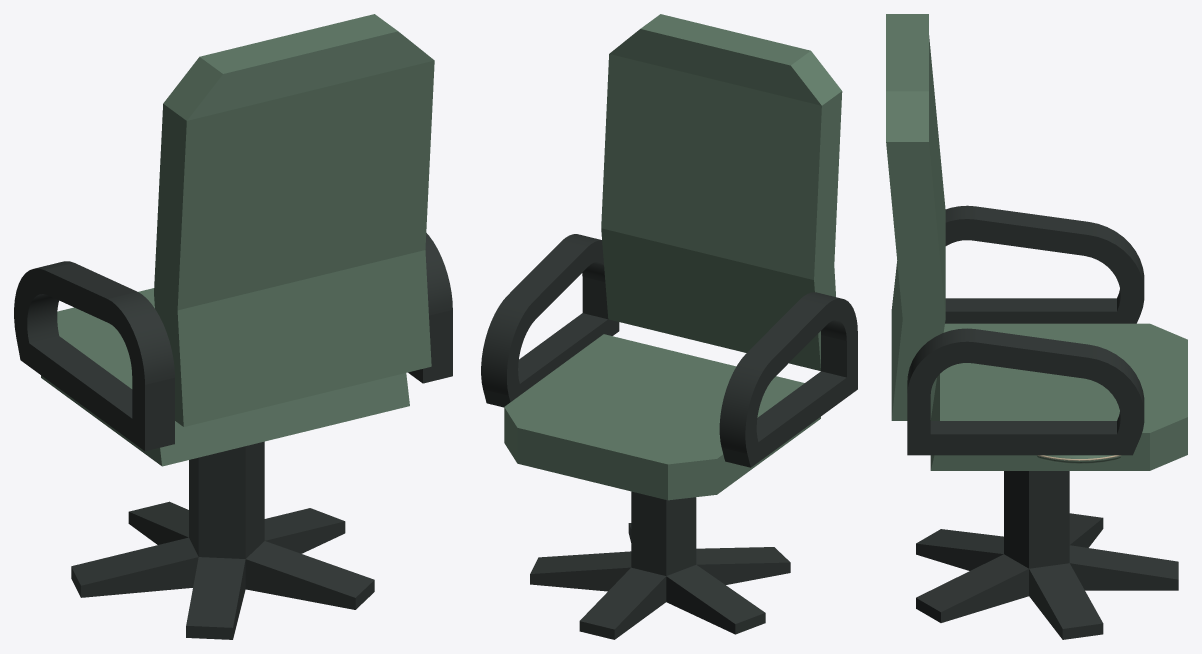
The model's file is chair-1.glb.
3 renders of one model, left to right at view 1: azimuth 30°, elevation 25°; view 2: azimuth 150°, elevation 25°; view 3: azimuth 270°, elevation 25°, orthographic. The views are drawn at different scales.
Parts seen in each view (by area): view 1: chair, chairDesk; view 2: chair, chairDesk; view 3: chair, chairDesk, Linen seat cushion.
Boxes of the visible parts, left/top/right/bottom form: chair: left=14, top=14, right=452, bottom=466; chairDesk: left=71, top=441, right=374, bottom=639; chair: left=481, top=14, right=857, bottom=500; chairDesk: left=530, top=491, right=790, bottom=639; chair: left=886, top=14, right=1187, bottom=470; chairDesk: left=916, top=471, right=1178, bottom=639; Linen seat cushion: left=1037, top=455, right=1121, bottom=463.
Bounding box in the file's own units: 0.7186 × 1.3 × 0.6743.
